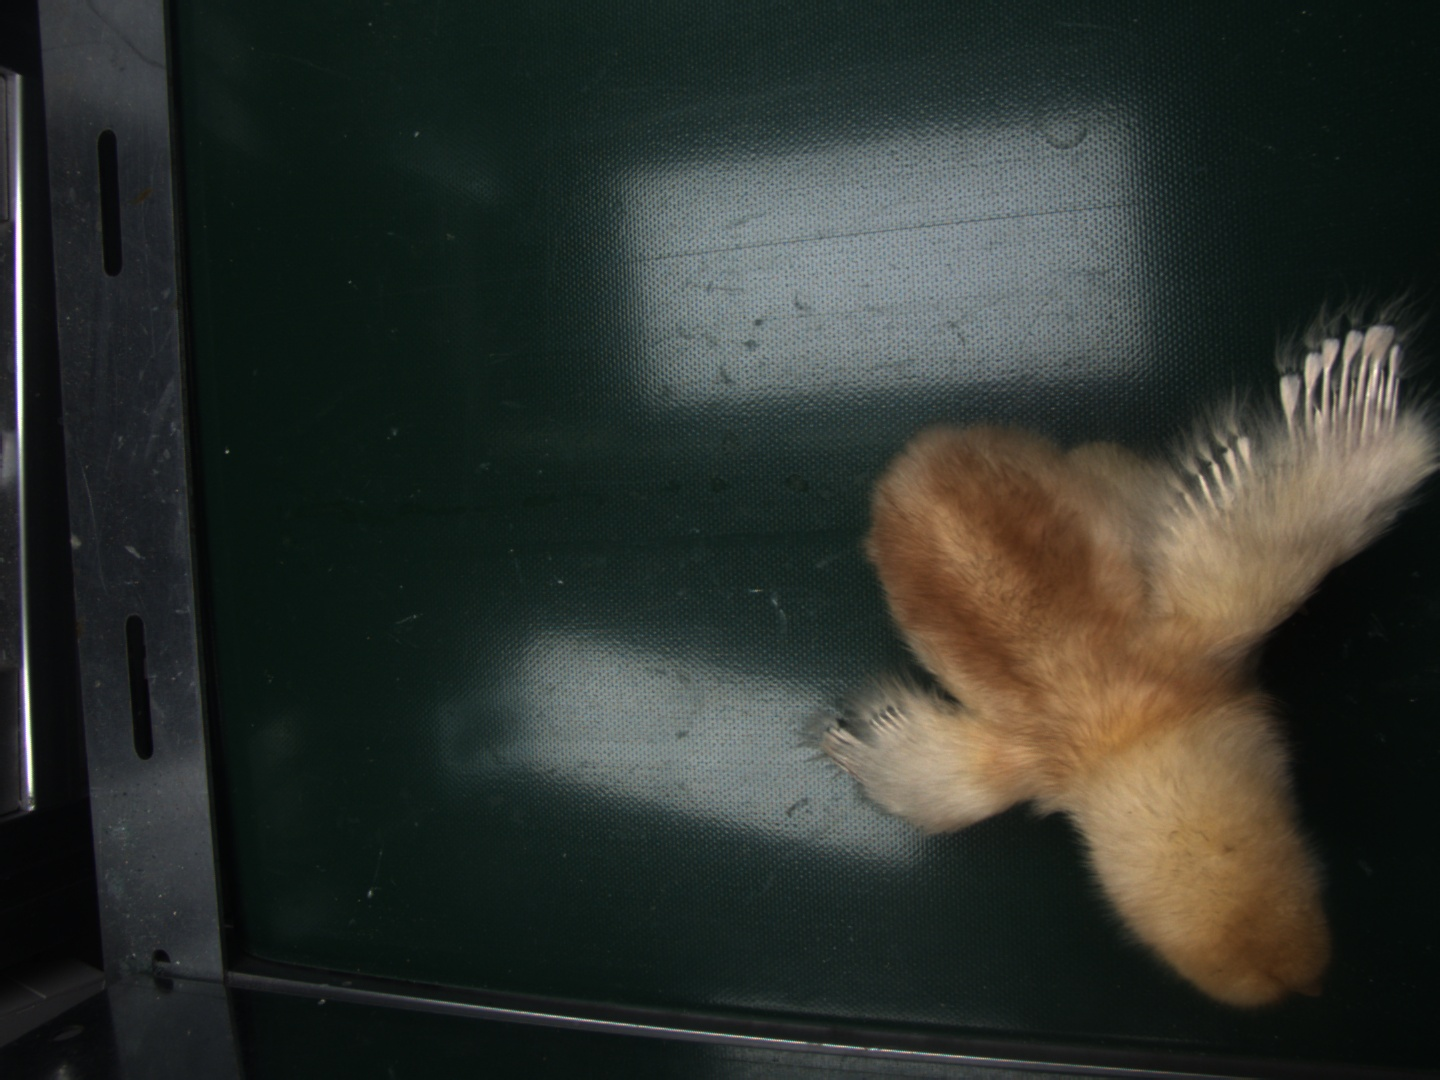female: (1297, 326, 1406, 428)
